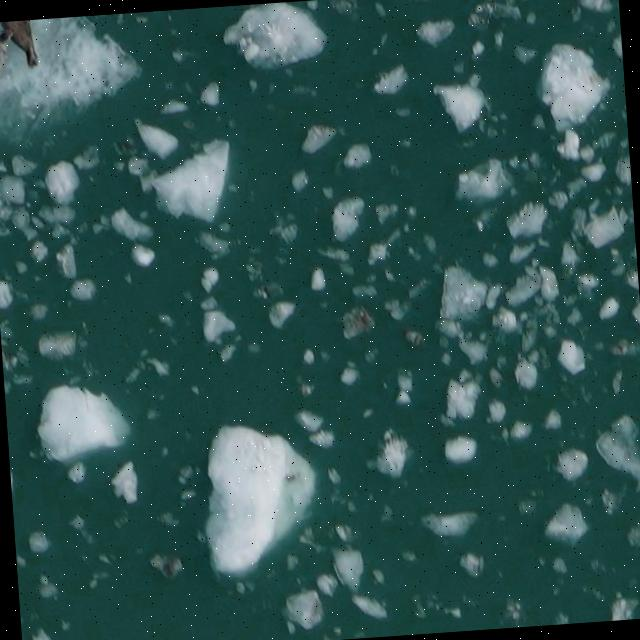seal: (1, 19, 37, 67), (0, 31, 9, 65)
